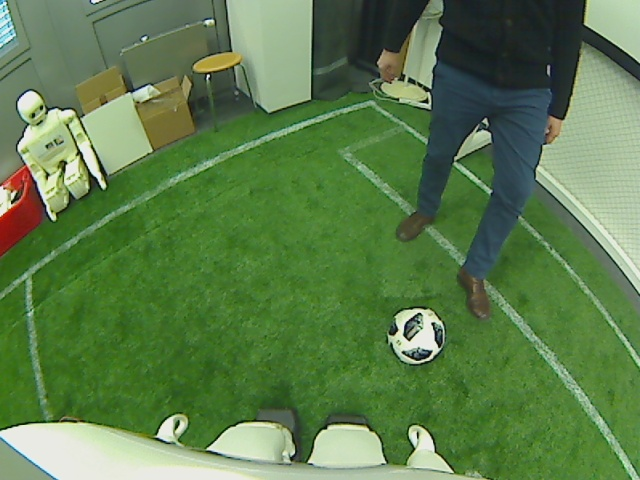ball: (385, 307, 449, 366)
